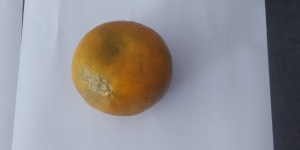BAD: (69, 17, 176, 119)
